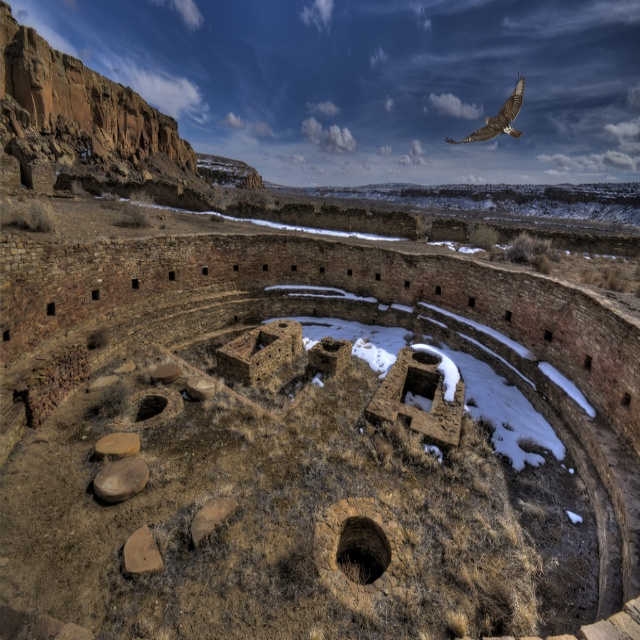Eagle: (443, 71, 526, 147)
